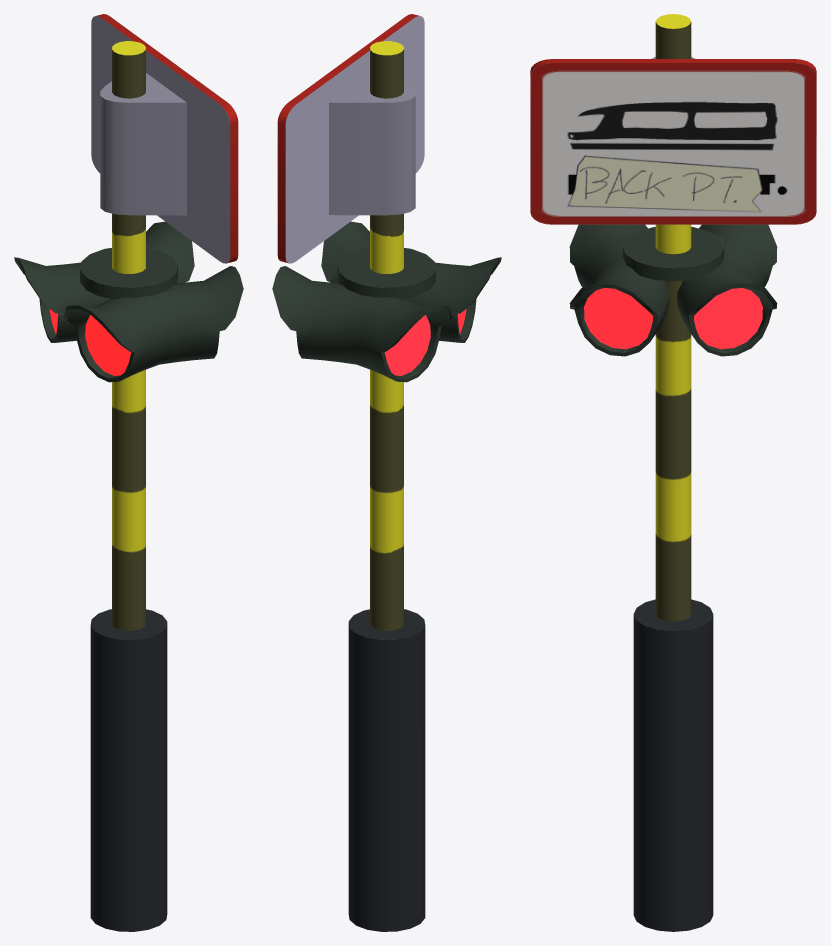
The model's file is BACKts.fbx.
3 renders of one model, left to right at view 1: azimuth 30°, elevation 25°; view 2: azimuth 150°, elevation 25°; view 3: azimuth 270°, elevation 25°, orthographic. The views are drawn at different scales.
Visible parts, largest first — view 1: mainpole, lights, sign, signholder; view 2: mainpole, lights, sign, signholder; view 3: sign, mainpole, lights.
Part boxes in pixels (x1=…): mainpole: x1=80, y1=41, x2=177, y2=931; lights: x1=14, y1=221, x2=243, y2=382; sign: x1=91, y1=14, x2=238, y2=263; signholder: x1=100, y1=73, x2=186, y2=215; mainpole: x1=338, y1=41, x2=435, y2=931; lights: x1=272, y1=221, x2=501, y2=382; sign: x1=277, y1=14, x2=424, y2=263; signholder: x1=329, y1=73, x2=415, y2=215; sign: x1=530, y1=59, x2=816, y2=224; mainpole: x1=622, y1=14, x2=724, y2=931; lights: x1=569, y1=224, x2=777, y2=356.
Size of the model in its own units: 47.7 by 241 by 69.92.
